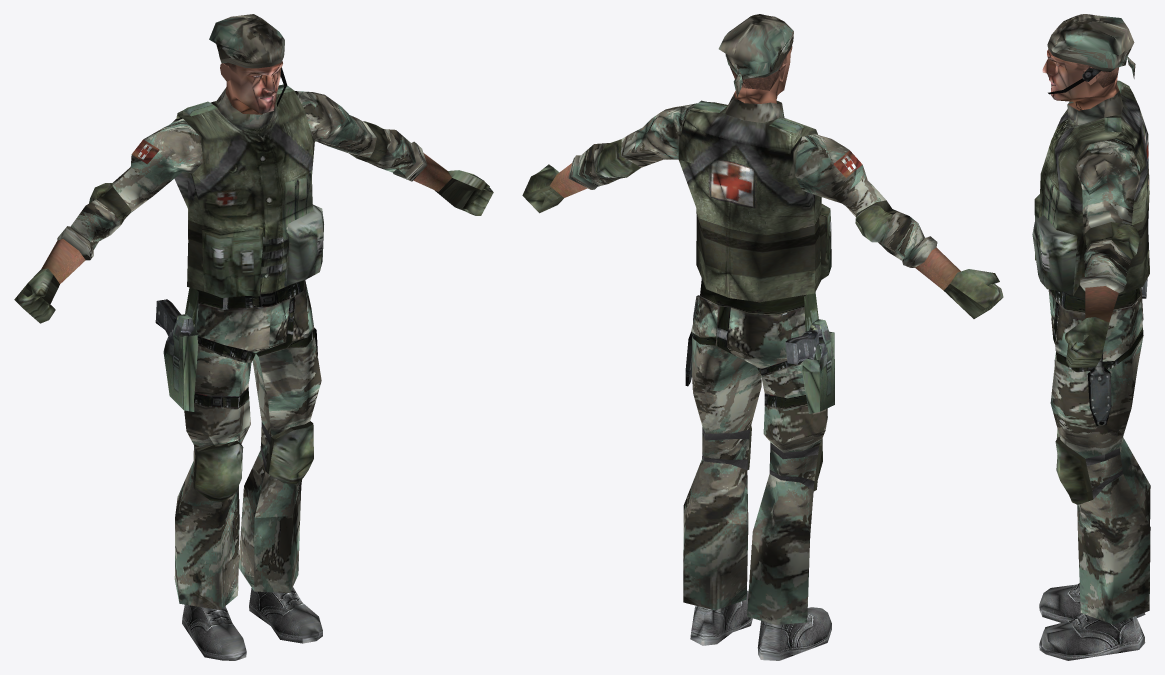
File: DMPmedic.glb
3 views of the same model, side by side, from view 1: azimuth 30°, elevation 25°; view 2: azimuth 150°, elevation 25°; view 3: azimuth 270°, elevation 25° (orthographic).
Parts seen in each view (by area): view 1: _DMPmedic; view 2: _DMPmedic; view 3: _DMPmedic.
Boxes of the visible parts, <box> form: _DMPmedic: <box>14,14,493,660</box>; _DMPmedic: <box>522,14,1003,660</box>; _DMPmedic: <box>1032,14,1150,660</box>.
Size of the model in its own units: 1.61 by 2.01 by 0.3487.
2 materials, 2 textured.
